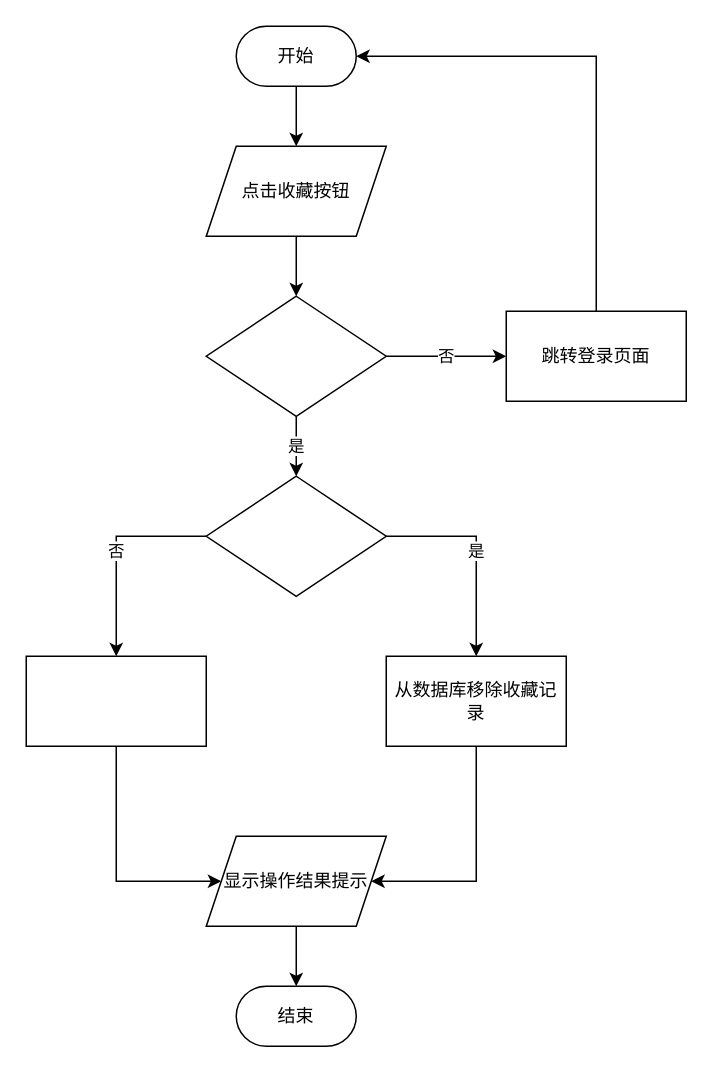
Some shapes in this 713 by 1073 pixel diagram are drawn without their labels. The shapes that lost their labels are listed below. From the top down, each one's centre as x and y in pixels, then its label:
point 295,355: 用户是否登录？
point 295,535: 是否已收藏？
point 115,700: 添加收藏记录到数据库
